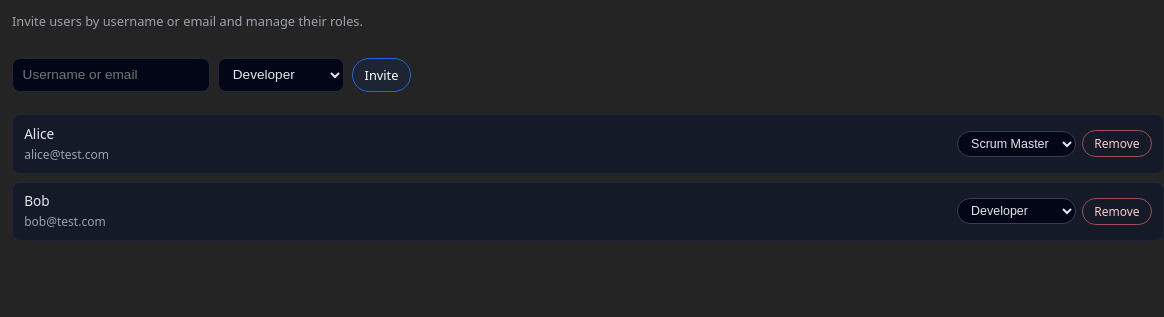
ProjectMemberSettings Component › handles invitation error
In the field with placeholder "Username or email": coordinates (111, 75) [12, 58, 210, 92], type "UnknownUser"
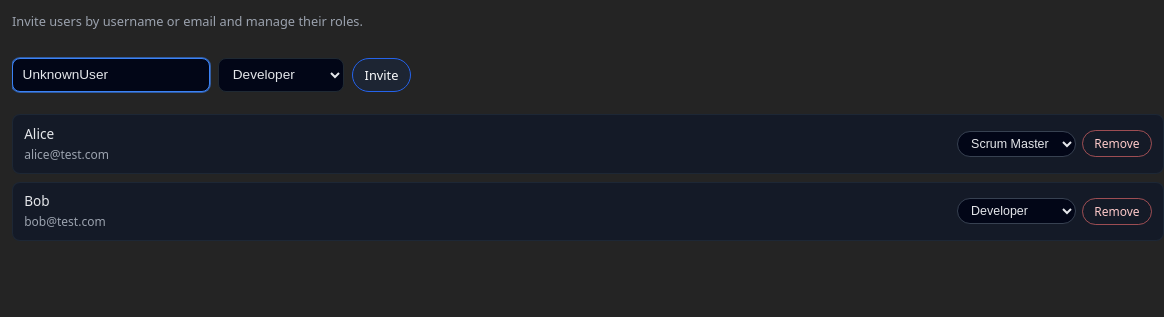
Click the button "Invite": coordinates (382, 75) [352, 58, 411, 92]
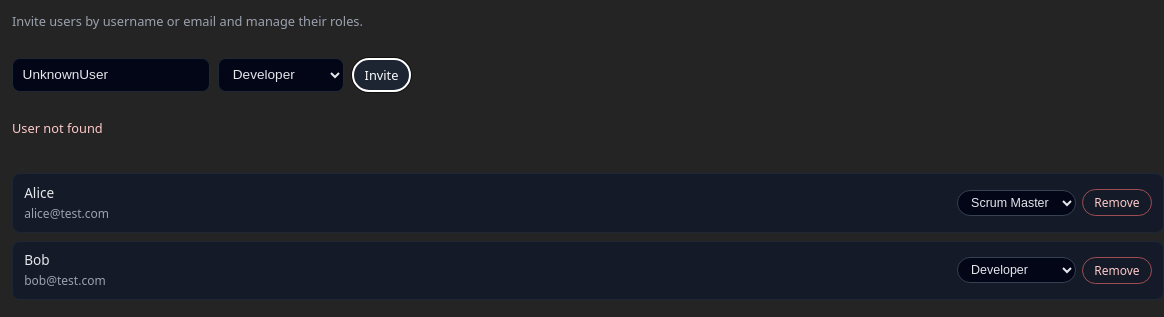
Check: the text "User not found" is shown, box [12, 119, 103, 137]
